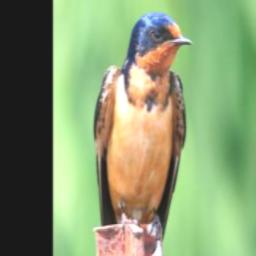Swallow: (92, 10, 193, 256)
